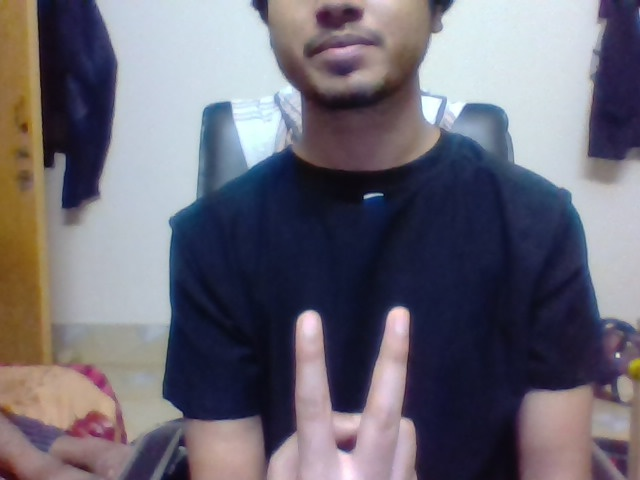V: (289, 301, 413, 437)
